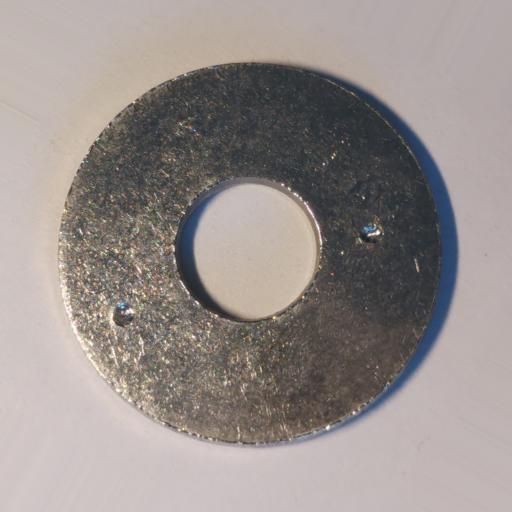circular_cavity: (111, 302, 134, 324), (359, 223, 382, 242)
